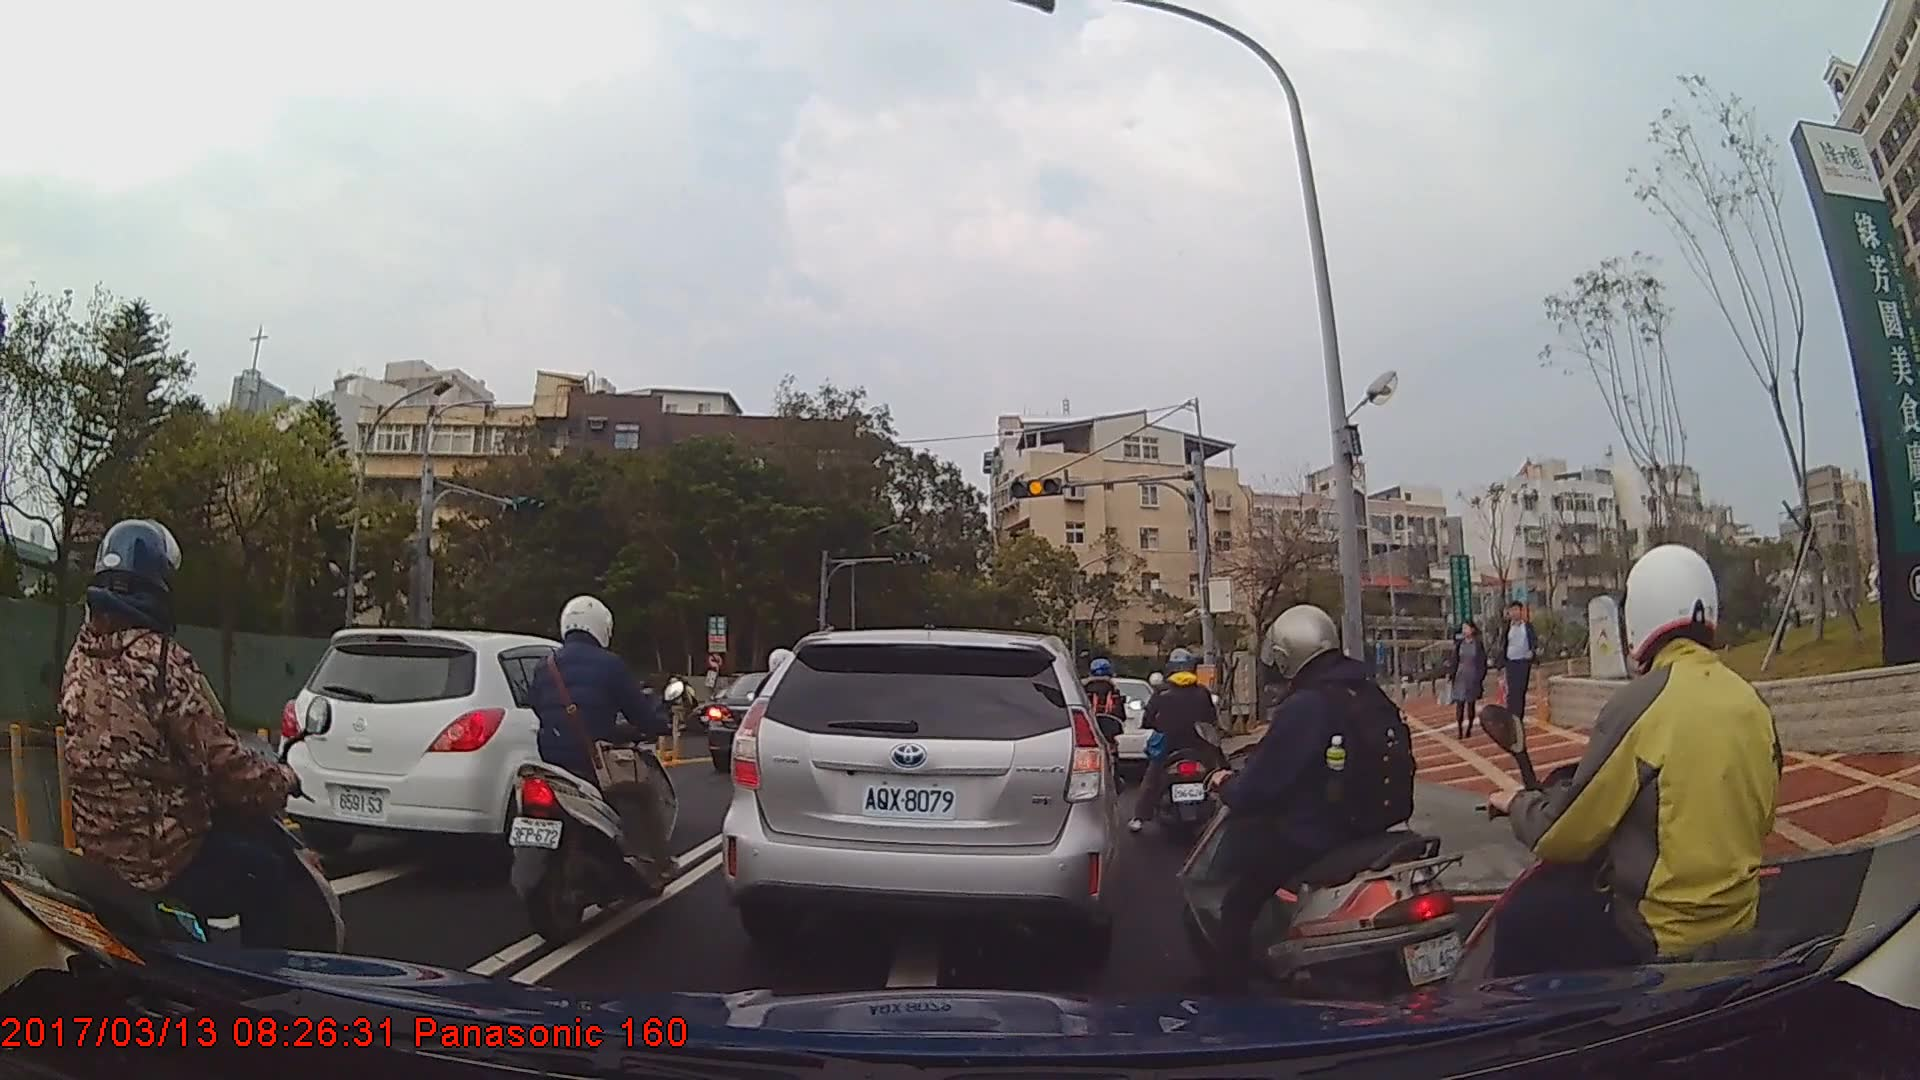pedestrian: (1494, 603, 1541, 742), (1446, 623, 1491, 741)
rider: (1425, 547, 1862, 1077), (2, 516, 360, 1018), (1173, 602, 1472, 1015), (504, 595, 686, 947), (1137, 642, 1240, 855), (1064, 659, 1130, 803)
vehicle: (720, 626, 1119, 957), (277, 626, 654, 864), (707, 672, 831, 776), (1065, 676, 1169, 781)
